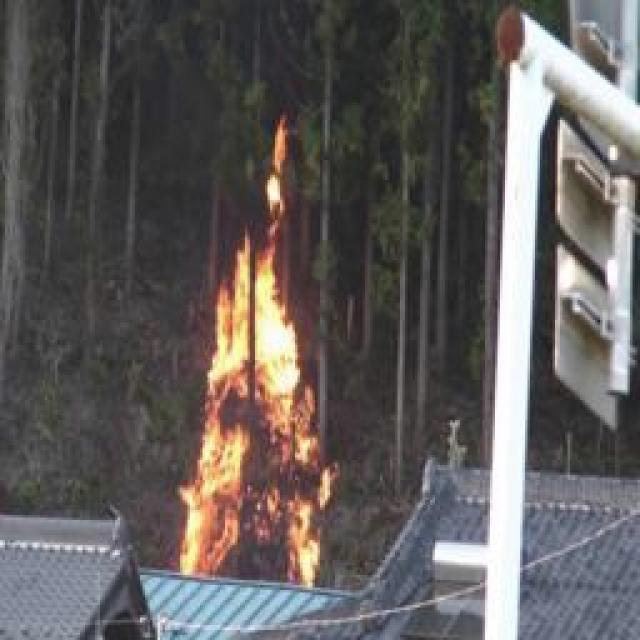Fire: (178, 118, 336, 590)
